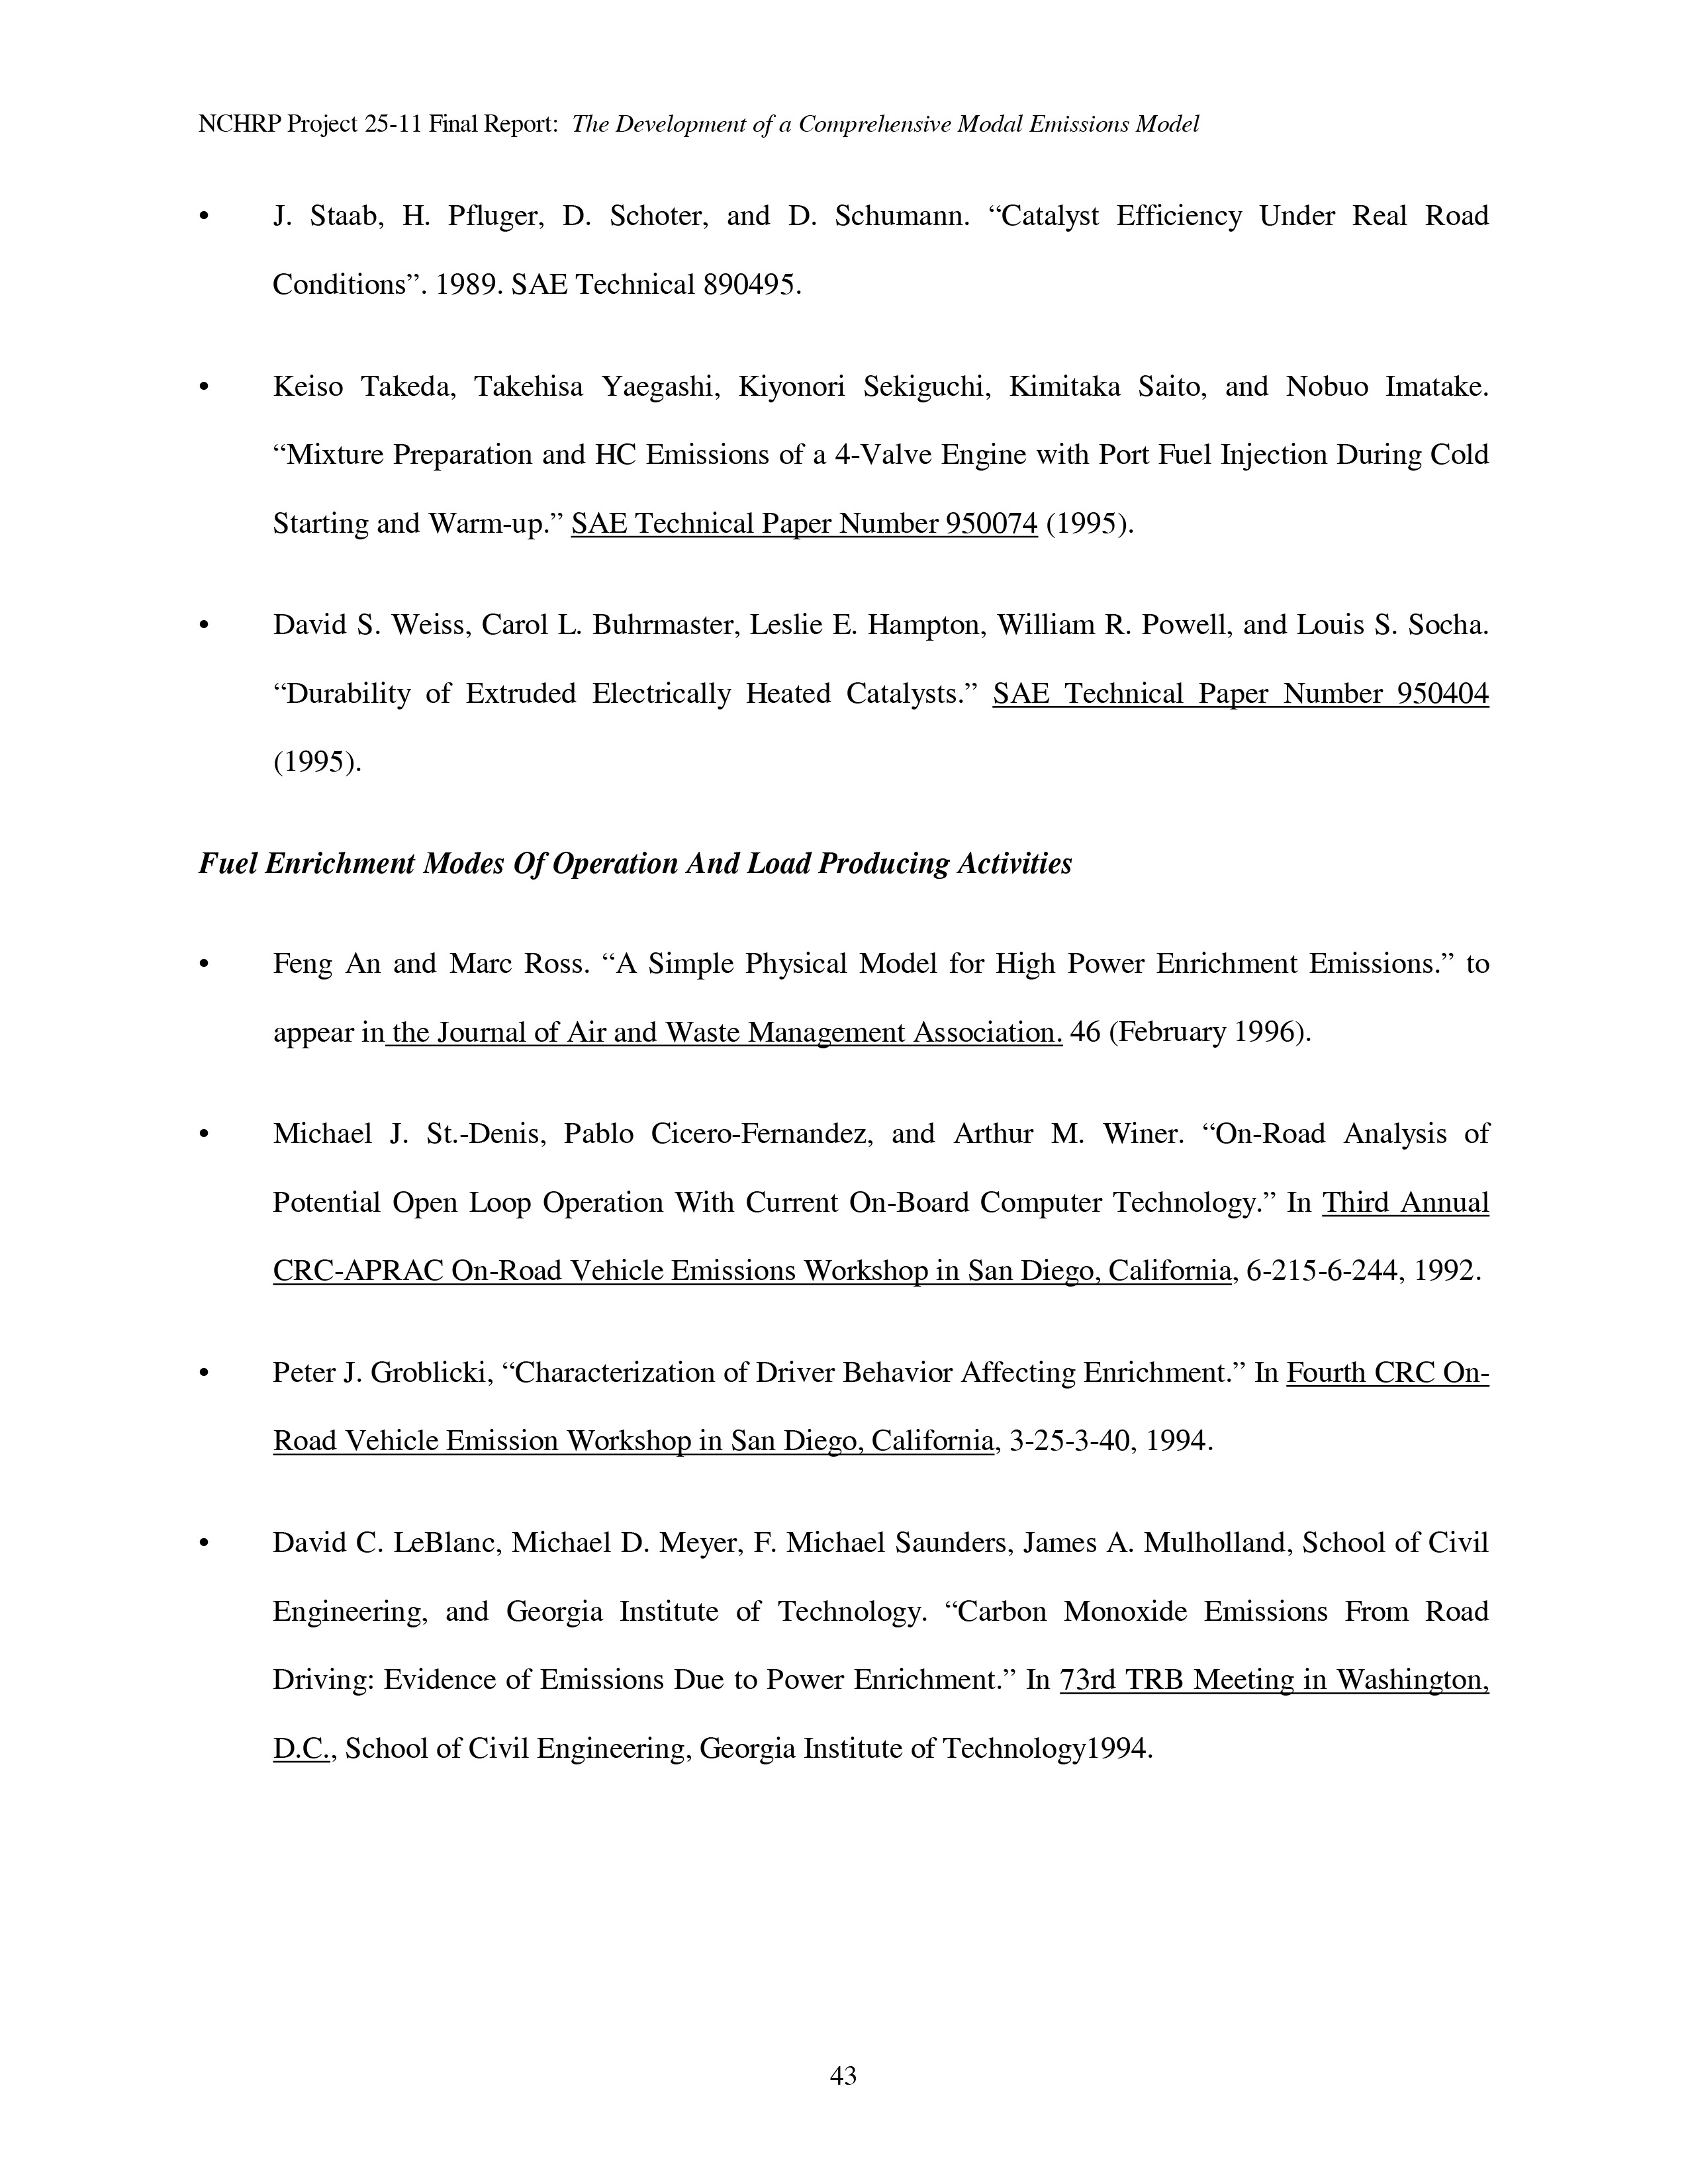list: (184, 934, 1518, 1785), (174, 195, 1512, 807)
text: (188, 85, 1222, 156), (174, 838, 1101, 895)
